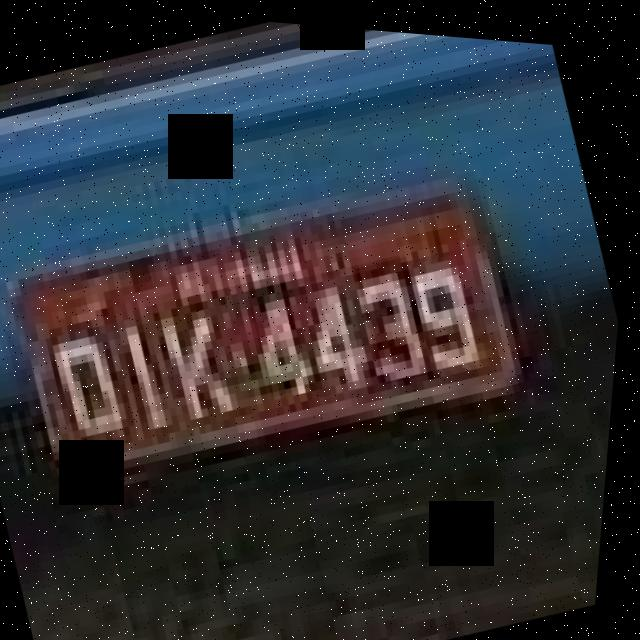3: (352, 246, 446, 381)
4: (297, 264, 385, 394), (244, 272, 324, 394)
9: (403, 242, 495, 371)
K: (141, 281, 266, 443)
Q: (48, 316, 146, 462)
